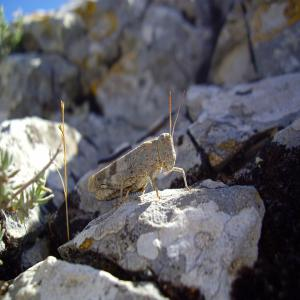locust: (86, 107, 194, 219)
